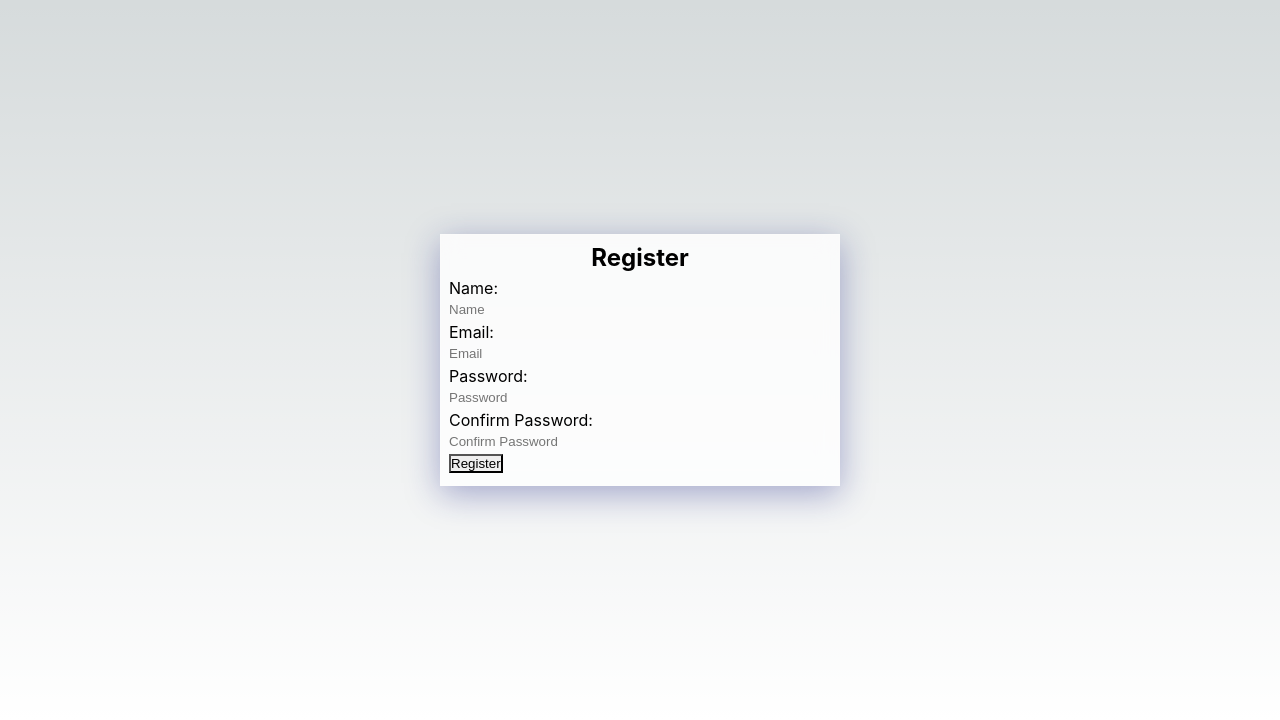
Scenario: Register Component › displays error message on registration failure
Type "John Doe" into the field labelled "Name:". click: (538, 309)
box: 449,302 -> 626,317
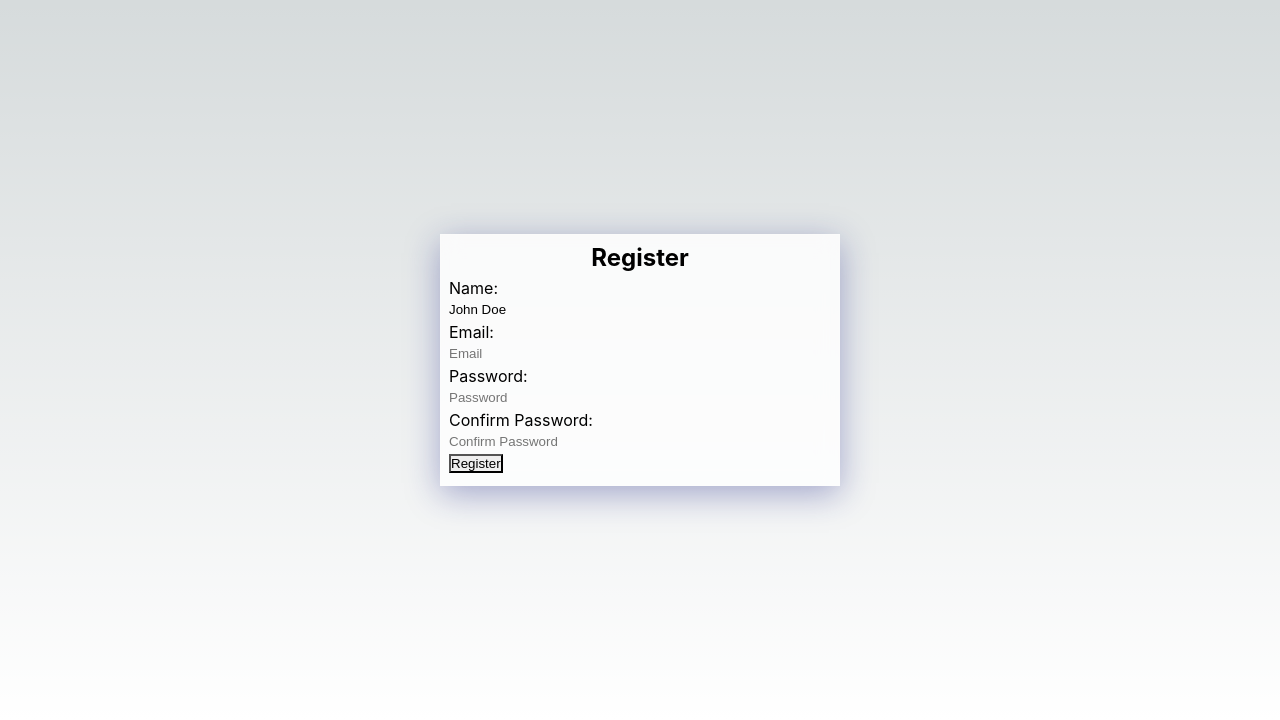
Type "john@example.com" into the field labelled "Email:". click: (538, 353)
box: 449,346 -> 626,361
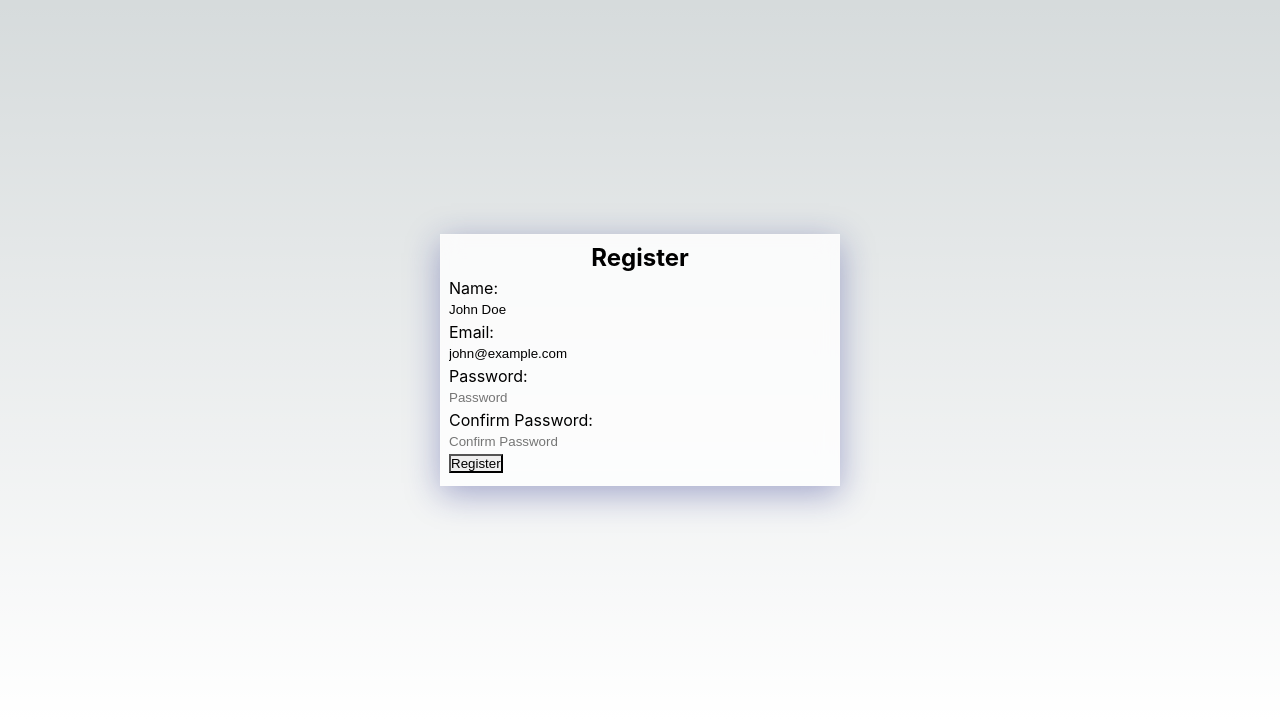
Type "password" into the password field labelled "Password:". click: (538, 397)
box: 449,390 -> 626,405
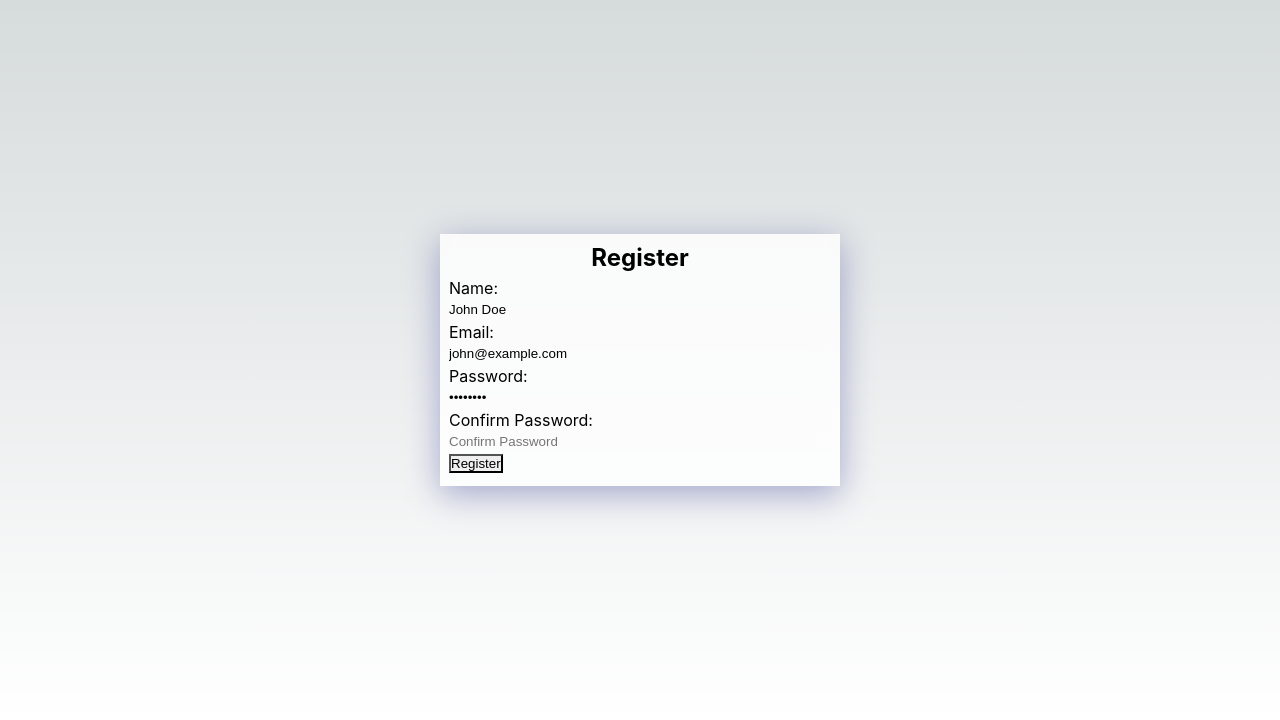
Type "password" into the password field labelled "Confirm Password:". click: (538, 441)
box: 449,434 -> 626,449
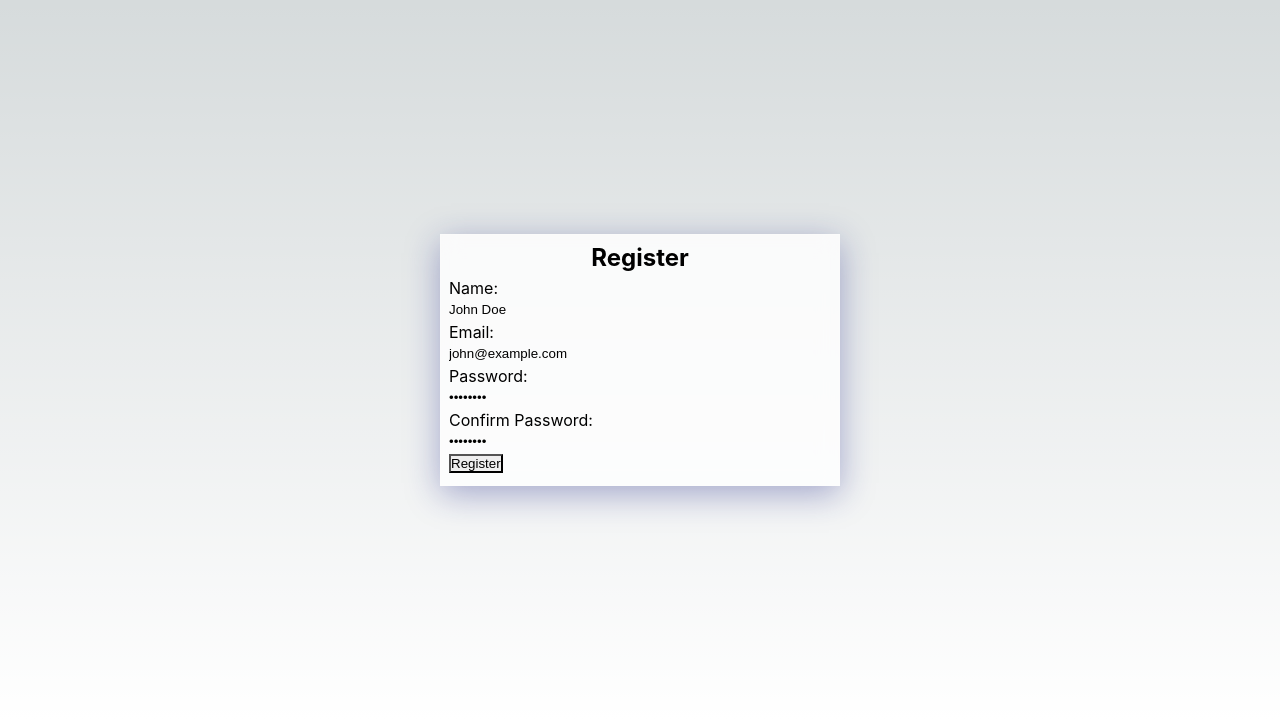
Click the button "Register". click: (476, 464)
box: 449,454 -> 503,473
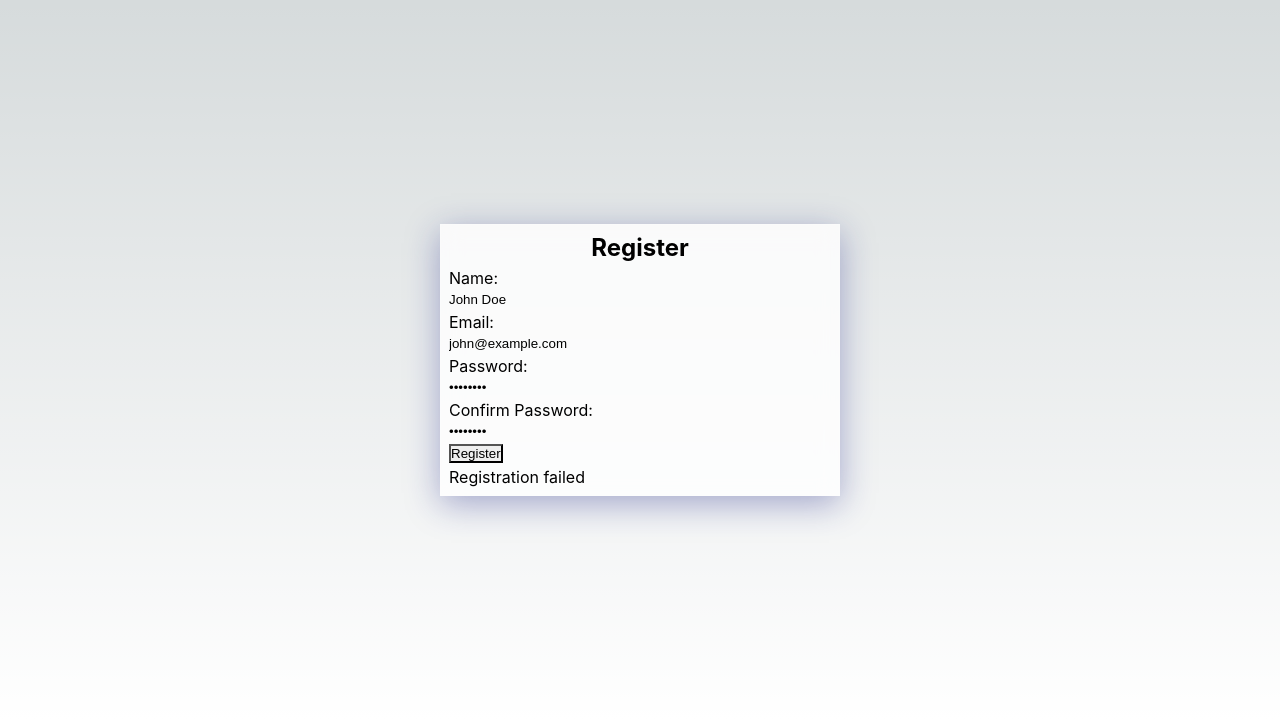
Check: the text "Registration failed" is shown, box 449,467 -> 585,487
